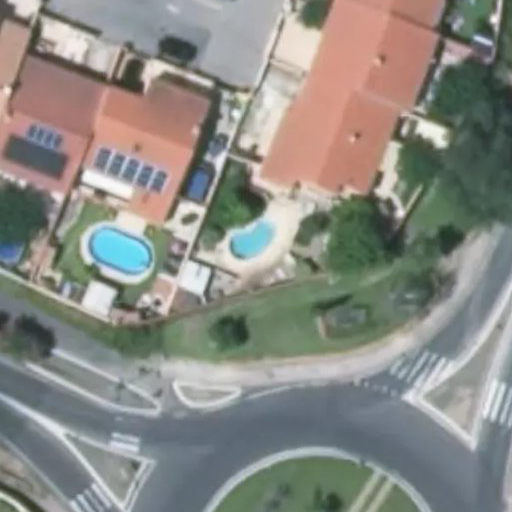pool: (227, 232, 285, 252)
